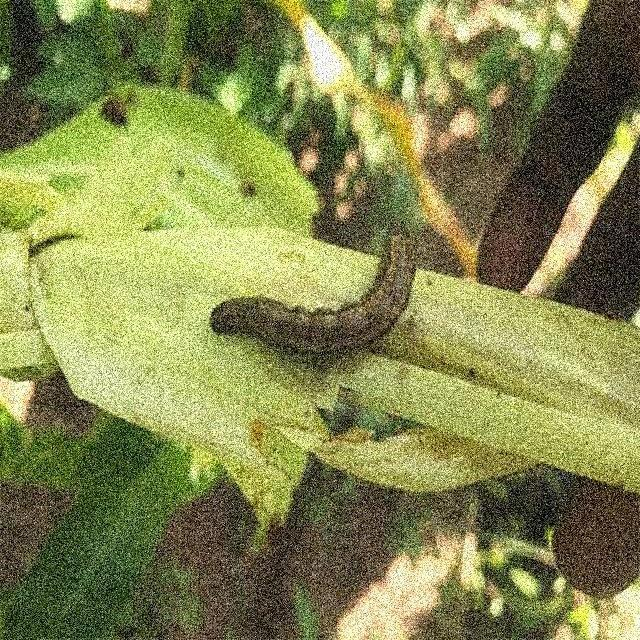gusano_cogollero: (208, 216, 420, 368)
